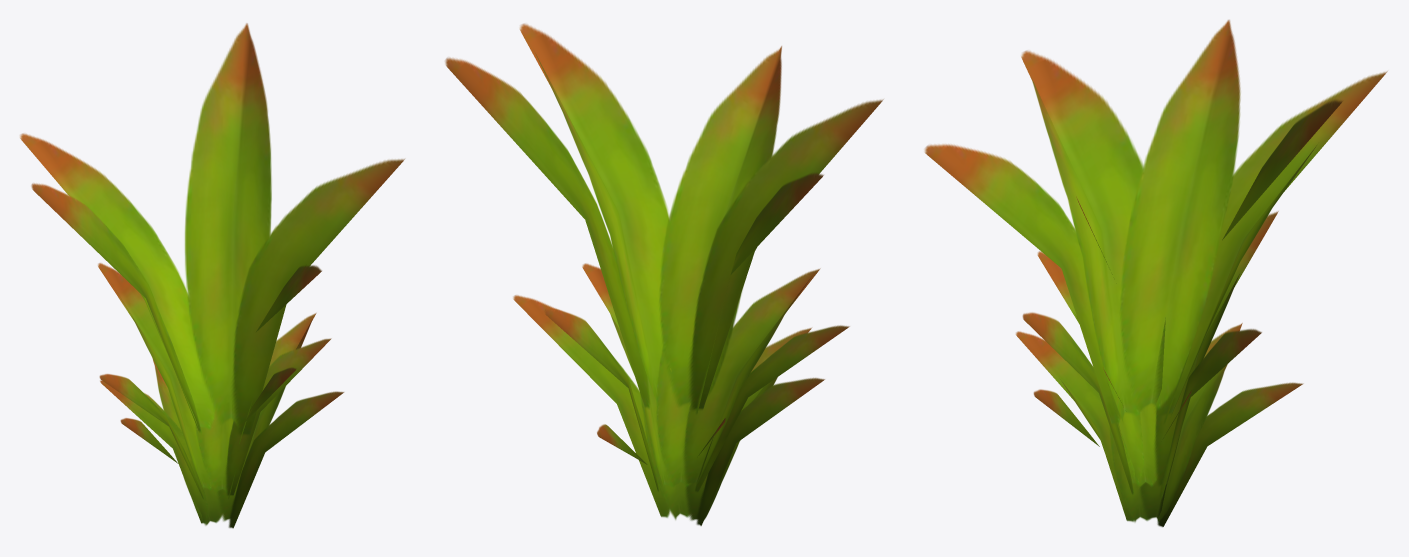
Rendered from plant-1.glb.
The picture shows the model from 3 angles, left to right: view 1: azimuth 30°, elevation 25°; view 2: azimuth 150°, elevation 25°; view 3: azimuth 270°, elevation 25°; orthographic projection. The views are drawn at different scales.
Parts seen in each view (by area): view 1: Plant_1_Big; view 2: Plant_1_Big; view 3: Plant_1_Big.
Part boxes in pixels (x1,y1,x2,y2): Plant_1_Big: [20, 23, 404, 528]; Plant_1_Big: [445, 23, 883, 525]; Plant_1_Big: [924, 20, 1387, 527].
Size of the model in its own units: 2.89 by 3.76 by 3.13.
Materials: 1 (1 with a texture image).
